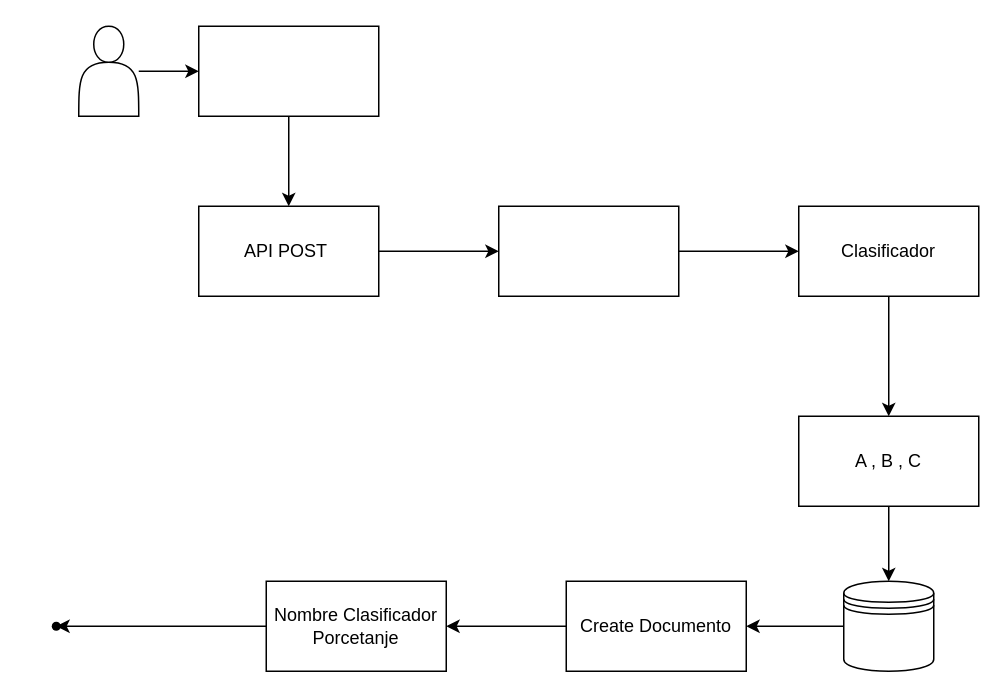
This 1005x698 diagram has some shape labels left out. Each missing label, with the box of its shape:
NLP: (497, 205, 679, 296)
Parrafo: (197, 25, 379, 116)
